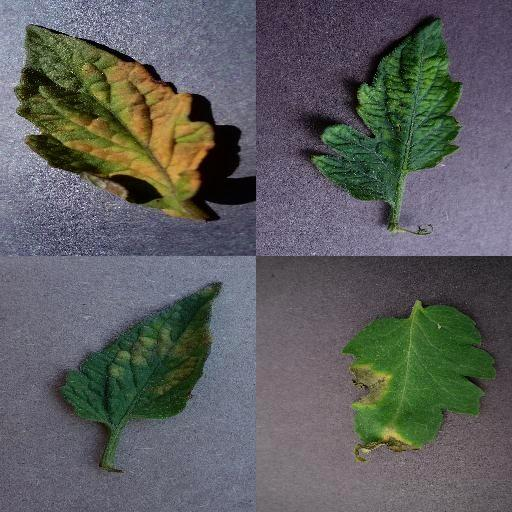Late Blight: (342, 305, 498, 469)
Leaf Mold: (14, 23, 214, 223), (59, 279, 222, 421)
Mosaic Virus: (308, 17, 462, 199)
